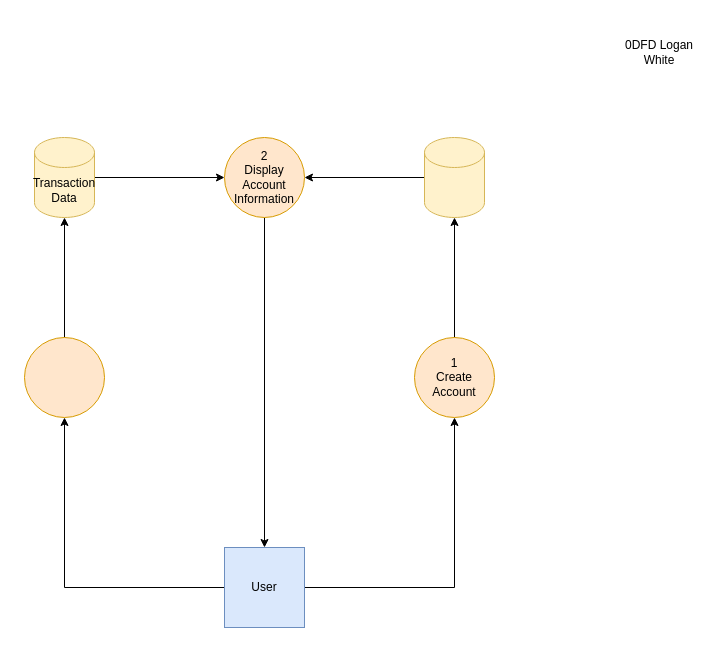
The diagram is 722 pixels wide and 645 high, and some of its shapes have lost their labels. Each missing label, with the centre of its shape:
"3 Process Deposit/Withdraw Requests" goes at (x=64, y=377).
"Account Info" goes at (x=454, y=177).
